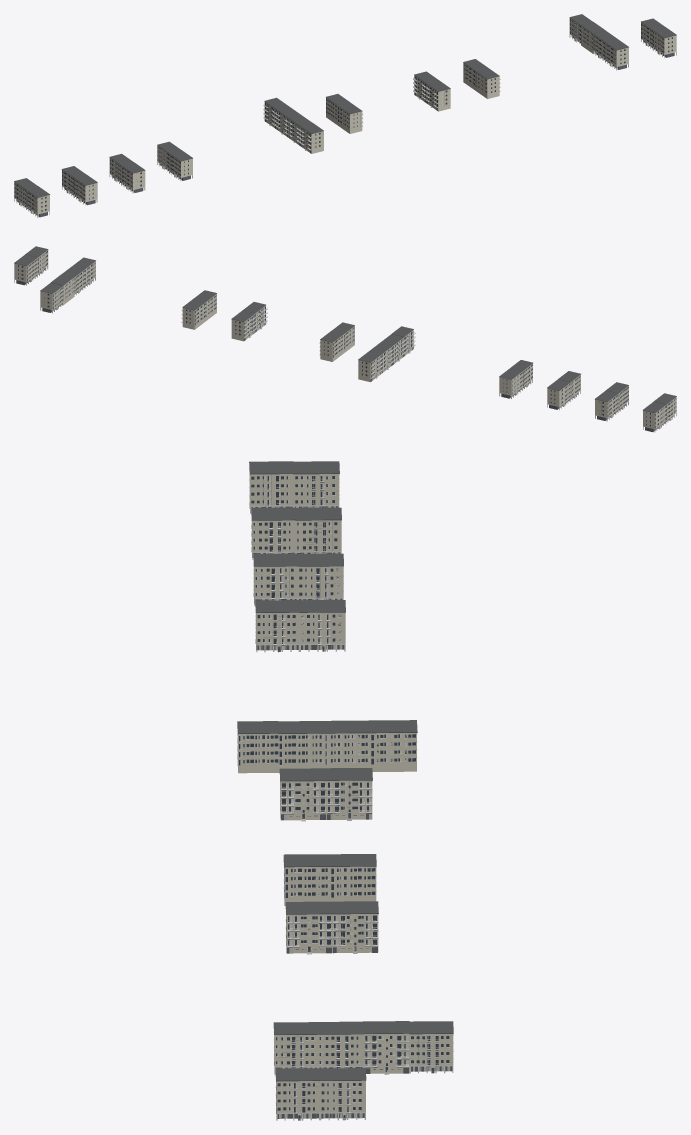
File: comenius-merged.glb
3 views of the same model, one above another, from view 1: azimuth 30°, elevation 25°; view 2: azimuth 150°, elevation 25°; view 3: azimuth 270°, elevation 25° (orthographic). The views are drawn at different scales.
Visible parts, largest first — view 1: comenius; view 2: comenius; view 3: comenius.
Part boxes in pixels (x1,y1,x2,y2): comenius: (14,14,676,217); comenius: (14,246,676,432); comenius: (237,461,453,1120).
Bounding box in the file's own units: 516 × 15.69 × 76.09.
